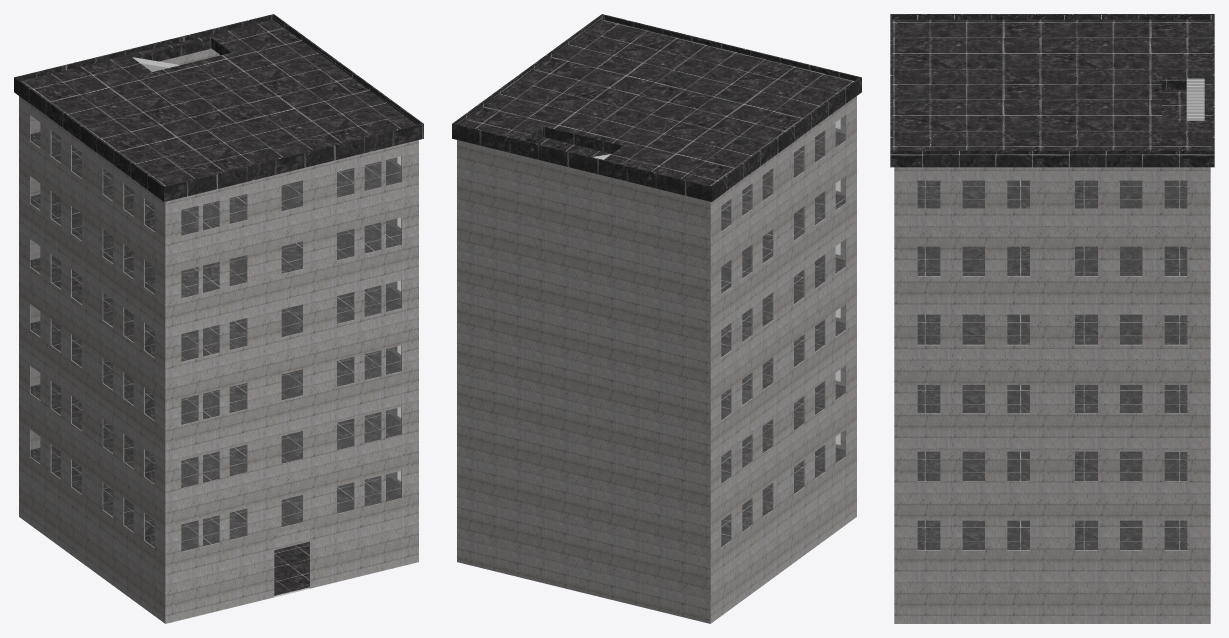
The model's file is Building.fbx.
3 renders of one model, left to right at view 1: azimuth 30°, elevation 25°; view 2: azimuth 150°, elevation 25°; view 3: azimuth 270°, elevation 25°, orthographic. The views are drawn at different scales.
Parts seen in each view (by area): view 1: polySurface117, polySurface154, polySurface157, polySurface160, polySurface158, polySurface161, polySurface159, polySurface162, polySurface121, polySurface119, polySurface122, polySurface118; view 2: polySurface117, polySurface154, polySurface162, polySurface160, polySurface158, polySurface161, polySurface157, polySurface159; view 3: polySurface117, polySurface154, polySurface162, polySurface158, polySurface160, polySurface157, polySurface161, polySurface159, polySurface168, polySurface66, polySurface64, polySurface55 (+33 smaller).
Boxes of the visible parts, left/top/right/bottom form: polySurface117: left=19, top=48, right=418, bottom=623; polySurface154: left=14, top=14, right=423, bottom=201; polySurface157: left=30, top=445, right=401, bottom=551; polySurface160: left=30, top=255, right=401, bottom=361; polySurface158: left=30, top=382, right=401, bottom=487; polySurface161: left=30, top=192, right=401, bottom=297; polySurface159: left=30, top=320, right=401, bottom=424; polySurface162: left=30, top=131, right=401, bottom=235; polySurface121: left=282, top=305, right=302, bottom=336; polySurface119: left=282, top=431, right=302, bottom=463; polySurface122: left=282, top=241, right=302, bottom=273; polySurface118: left=282, top=495, right=302, bottom=526; polySurface117: left=457, top=96, right=856, bottom=623; polySurface154: left=452, top=14, right=861, bottom=201; polySurface162: left=535, top=131, right=845, bottom=230; polySurface160: left=721, top=255, right=845, bottom=356; polySurface158: left=721, top=381, right=845, bottom=483; polySurface161: left=721, top=192, right=845, bottom=293; polySurface157: left=721, top=445, right=845, bottom=546; polySurface159: left=721, top=319, right=845, bottom=419; polySurface117: left=894, top=167, right=1210, bottom=623; polySurface154: left=890, top=14, right=1214, bottom=167; polySurface162: left=917, top=90, right=1187, bottom=208; polySurface158: left=917, top=451, right=1187, bottom=481; polySurface160: left=917, top=314, right=1187, bottom=344; polySurface157: left=917, top=520, right=1187, bottom=549; polySurface161: left=917, top=246, right=1187, bottom=275; polySurface159: left=917, top=385, right=1187, bottom=412; polySurface168: left=1186, top=78, right=1204, bottom=120; polySurface66: left=1075, top=452, right=1097, bottom=481; polySurface64: left=1075, top=315, right=1097, bottom=344; polySurface55: left=1007, top=315, right=1029, bottom=344.
Bounding box in the file's own units: 30.96 × 49.96 × 30.96.
